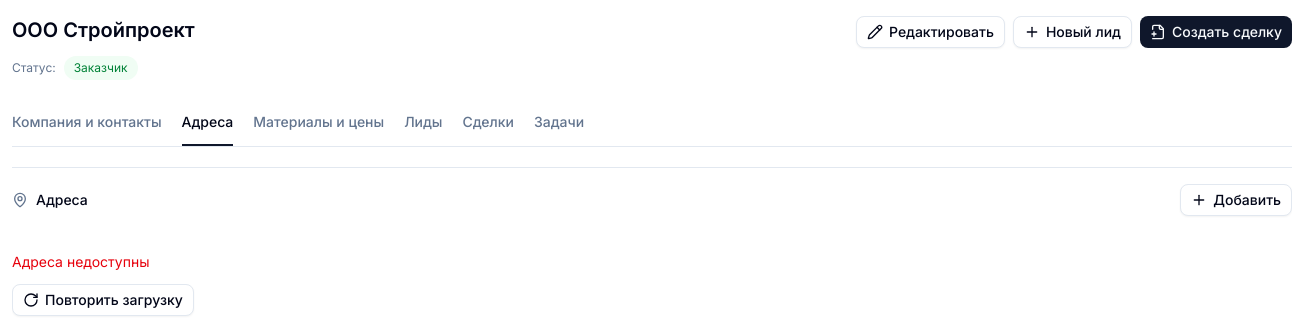
Test: ошибка адресов не отображается как отсутствие адресов
expect the text "Адреса недоступны" is shown: met, box [12, 253, 150, 270]
expect the text "Адреса не добавлены" is not shown: met
What coordinates should you click on to do the following:
click the button "Повторить загрузку"
I would click on:
 (103, 300)
Its box is [12, 284, 194, 316].
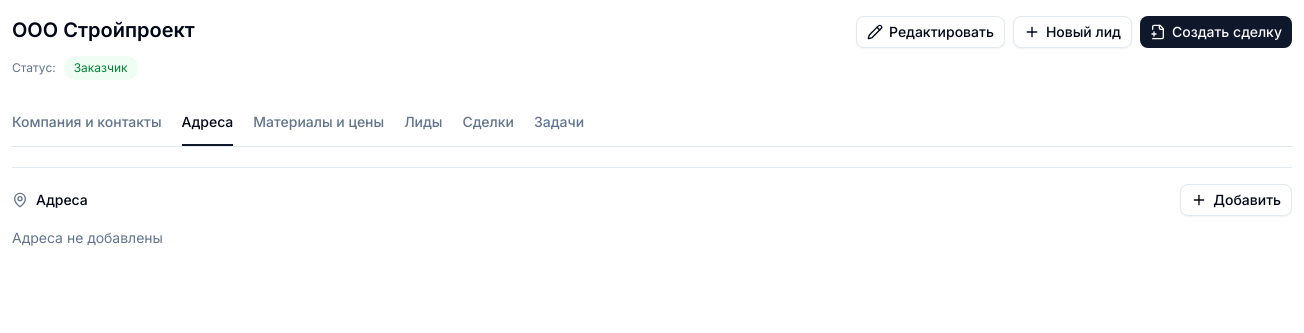
expect the text "Адреса не добавлены" is shown: met, box [12, 229, 163, 246]
